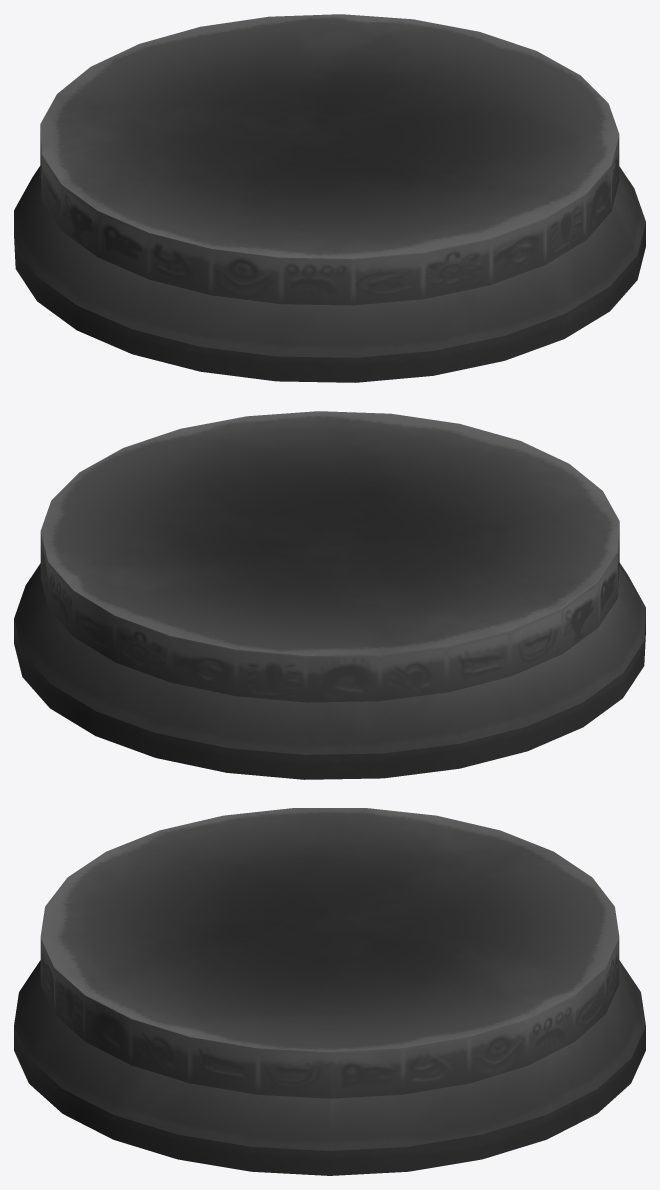
The model's file is SM_Socle_Perso.FBX.
3 views of the same model, one above another, from view 1: azimuth 30°, elevation 25°; view 2: azimuth 150°, elevation 25°; view 3: azimuth 270°, elevation 25° (orthographic).
Visible parts, largest first — view 1: Cylinder001; view 2: Cylinder001; view 3: Cylinder001.
Part boxes in pixels (left/top/right/bottom): Cylinder001: left=14, top=14, right=645, bottom=382; Cylinder001: left=14, top=411, right=645, bottom=779; Cylinder001: left=14, top=808, right=645, bottom=1175.
Bounding box in the file's own units: 66.82 × 13.15 × 66.95.
1 material, 1 textured.
